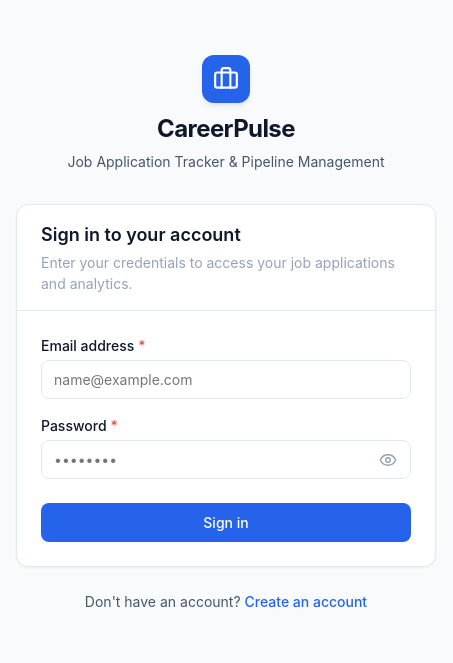
Test: LoginPage Component (Phase 6.5C) › 5. handles backend field and general errors cleanly
The image size is (453, 663).
Type "unknown@example.com" into the field labelled "Email address *" at (226, 379), box [41, 360, 411, 398]
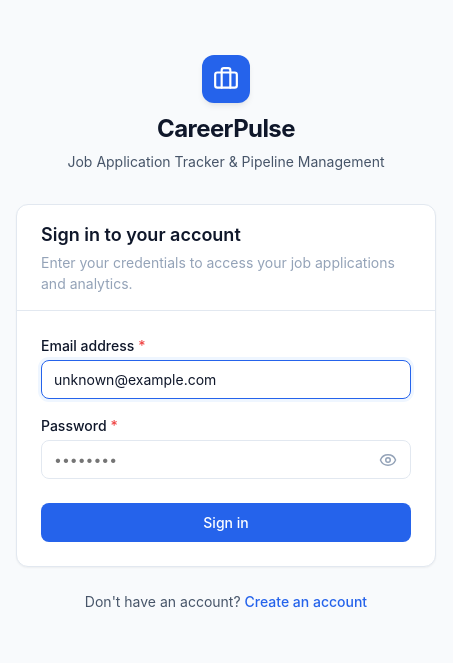
Type "WrongPass123!" into the password field labelled "Password *" at (226, 459), box [41, 440, 411, 478]
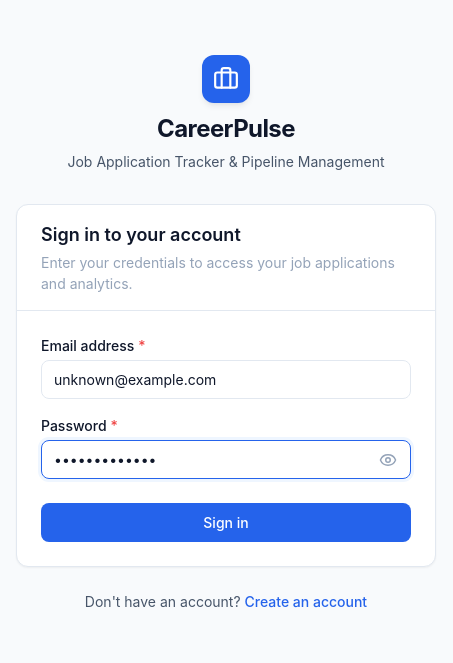
Click the button "Sign in" at (226, 522), box [41, 502, 411, 542]
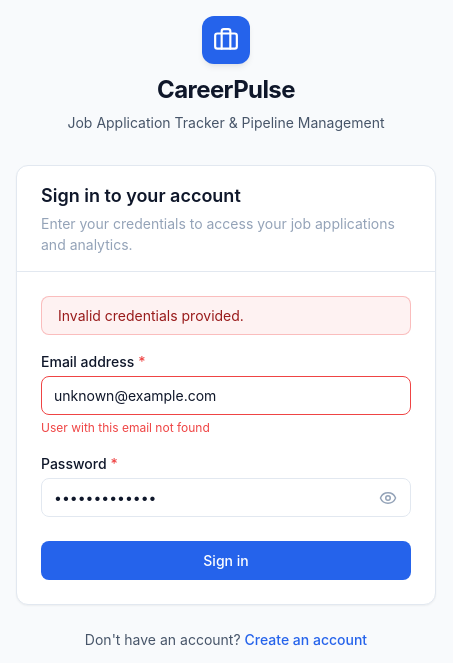
Expected: the text "Invalid credentials provided." is shown, [41, 296, 411, 335]
Expected: the text "User with this email not found" is shown, [41, 420, 210, 435]
